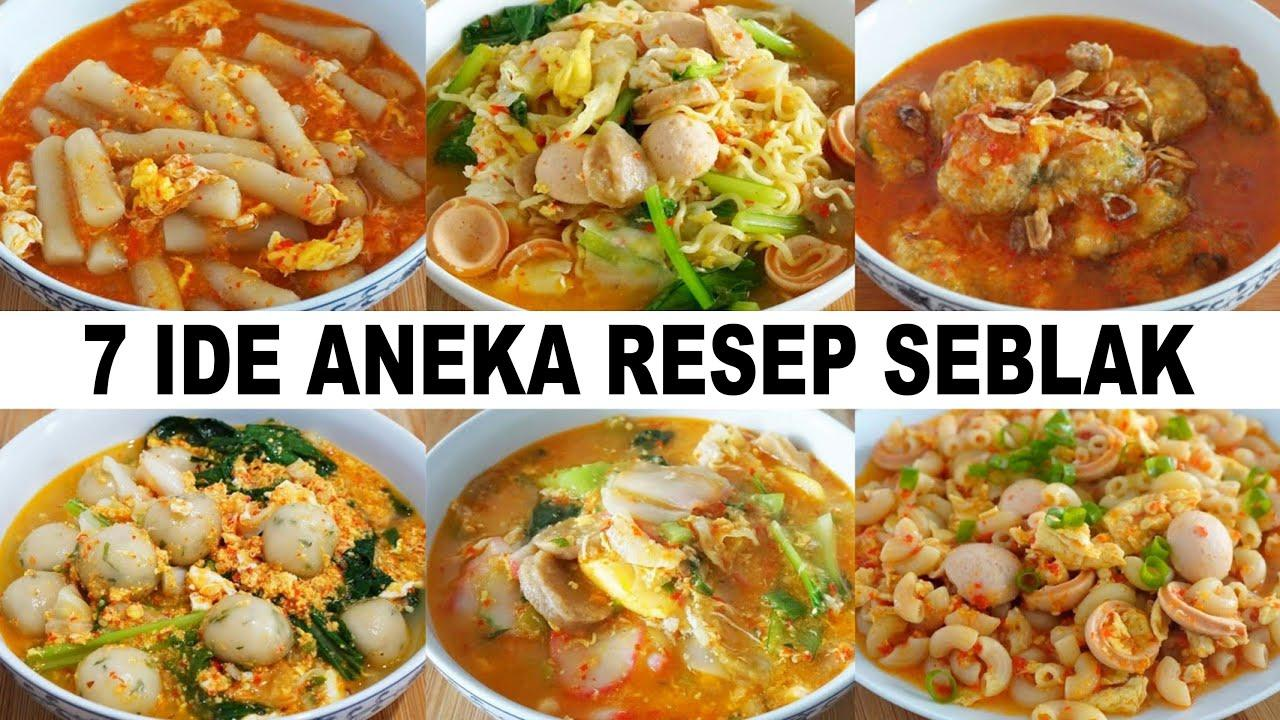seblak: (1, 411, 425, 720), (864, 410, 1278, 720), (1, 2, 423, 306), (432, 3, 854, 307), (435, 420, 856, 716)
